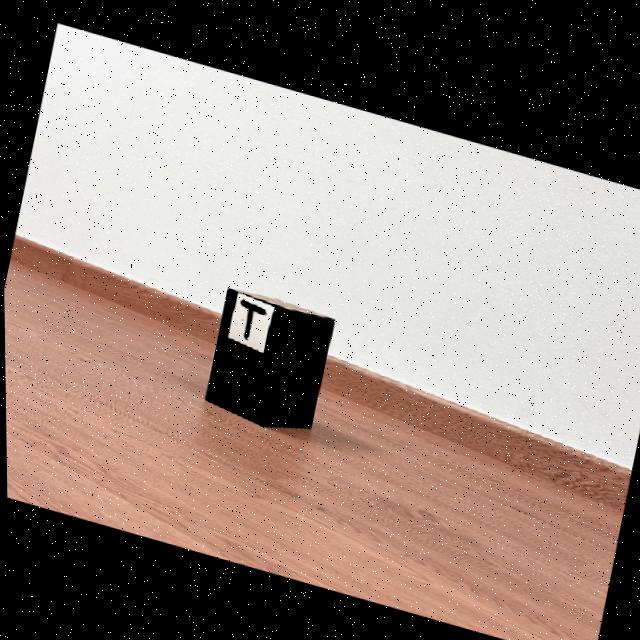T: (240, 296, 265, 335)
